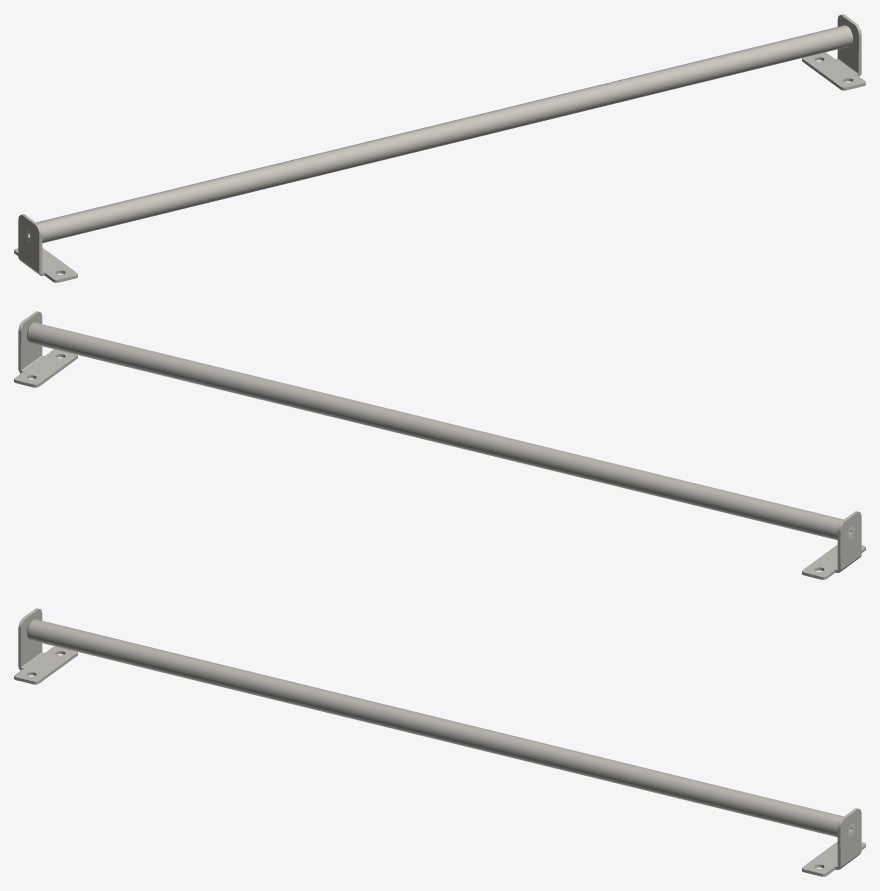
Rendered from kungsfors_szyna_40334916.glb.
3 views of the same model, one above another, from view 1: azimuth 30°, elevation 25°; view 2: azimuth 150°, elevation 25°; view 3: azimuth 330°, elevation 25° (orthographic).
Visible parts, largest first — view 1: kungsfors_szyna_40334916; view 2: kungsfors_szyna_40334916; view 3: kungsfors_szyna_40334916.
Part boxes in pixels (bbox=[...]): kungsfors_szyna_40334916: bbox=[14, 14, 865, 282]; kungsfors_szyna_40334916: bbox=[14, 311, 865, 579]; kungsfors_szyna_40334916: bbox=[14, 608, 865, 876].
Size of the model in its own units: 0.5596 by 0.0321 by 0.0501.
1 material, 1 textured.
